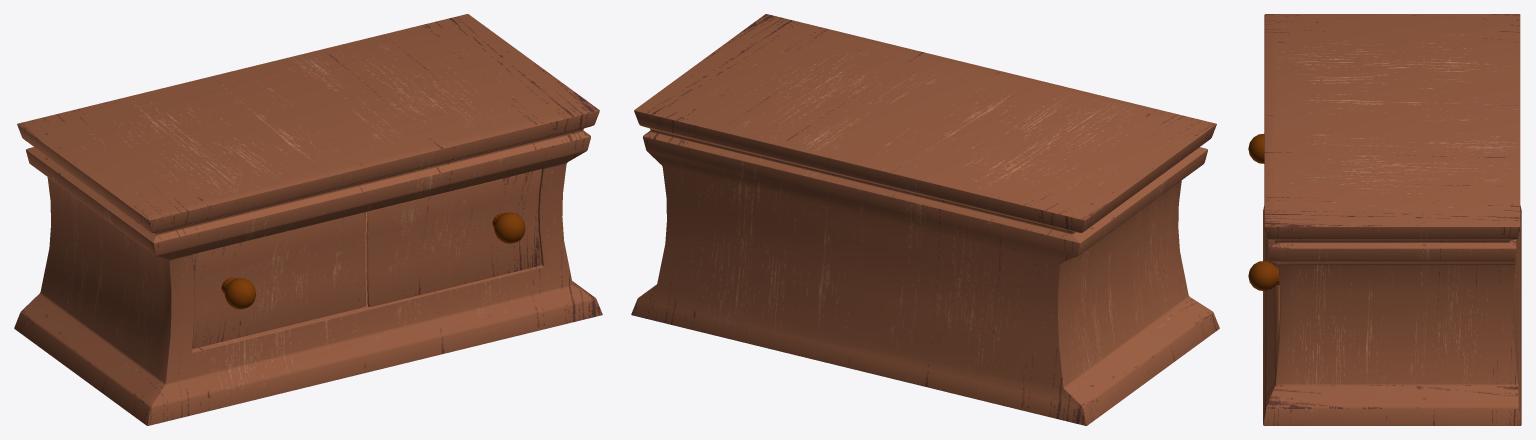
Rendered from Tv_Unit.fbx.
3 renders of one model, left to right at view 1: azimuth 30°, elevation 25°; view 2: azimuth 150°, elevation 25°; view 3: azimuth 270°, elevation 25°, orthographic. The views are drawn at different scales.
Visible parts, largest first — view 1: Box001, Object, Box002; view 2: Box001; view 3: Box001, Object, Box002.
Boxes of the visible parts, x1,y1,x2,y2 form: Box001: [14, 14, 602, 425]; Object: [366, 169, 542, 306]; Box002: [192, 212, 366, 348]; Box001: [631, 14, 1219, 425]; Box001: [1263, 14, 1521, 425]; Object: [1248, 261, 1279, 313]; Box002: [1248, 134, 1264, 163].
Size of the model in its own units: 70.61 by 30.38 by 37.91.
Materials: 2 (1 with a texture image).
